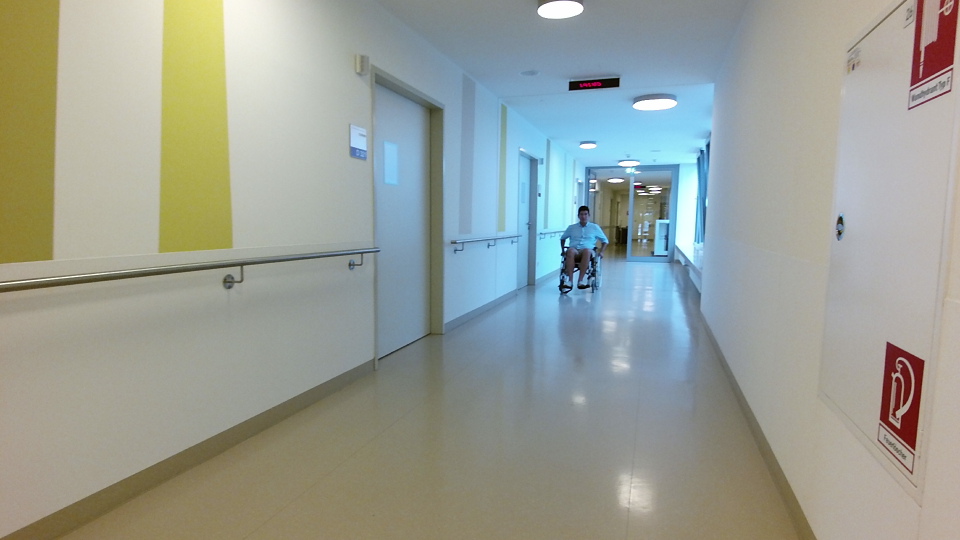wheelchair: (545, 195, 612, 297)
